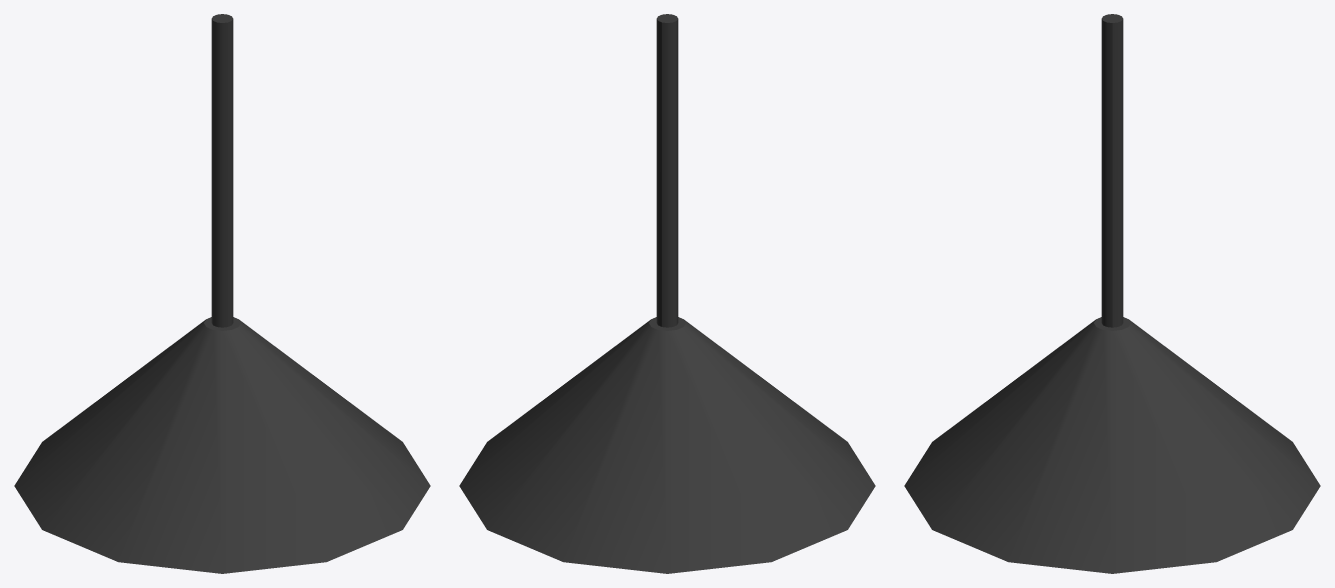
The model's file is LamTeto2.fbx.
The picture shows the model from 3 angles, left to right: view 1: azimuth 30°, elevation 25°; view 2: azimuth 150°, elevation 25°; view 3: azimuth 270°, elevation 25°; orthographic projection.
Visible parts, largest first — view 1: Cone; view 2: Cone; view 3: Cone.
Part boxes in pixels (<box>): Cone: <box>14,14,430,573</box>; Cone: <box>459,14,875,573</box>; Cone: <box>904,14,1320,573</box>.
Bounding box in the file's own units: 115 × 142 × 115.
